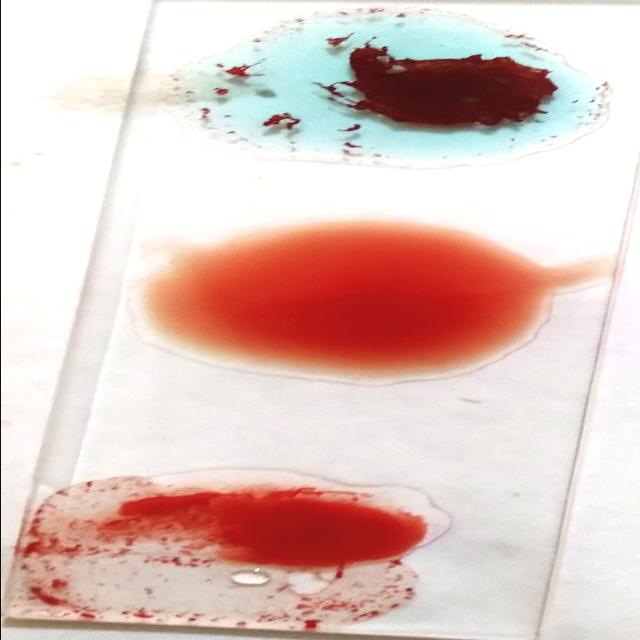A: (178, 14, 610, 170)
D: (1, 478, 450, 621)
